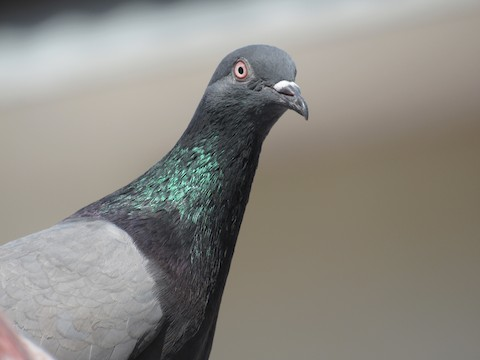pigeon: (19, 40, 315, 339)
